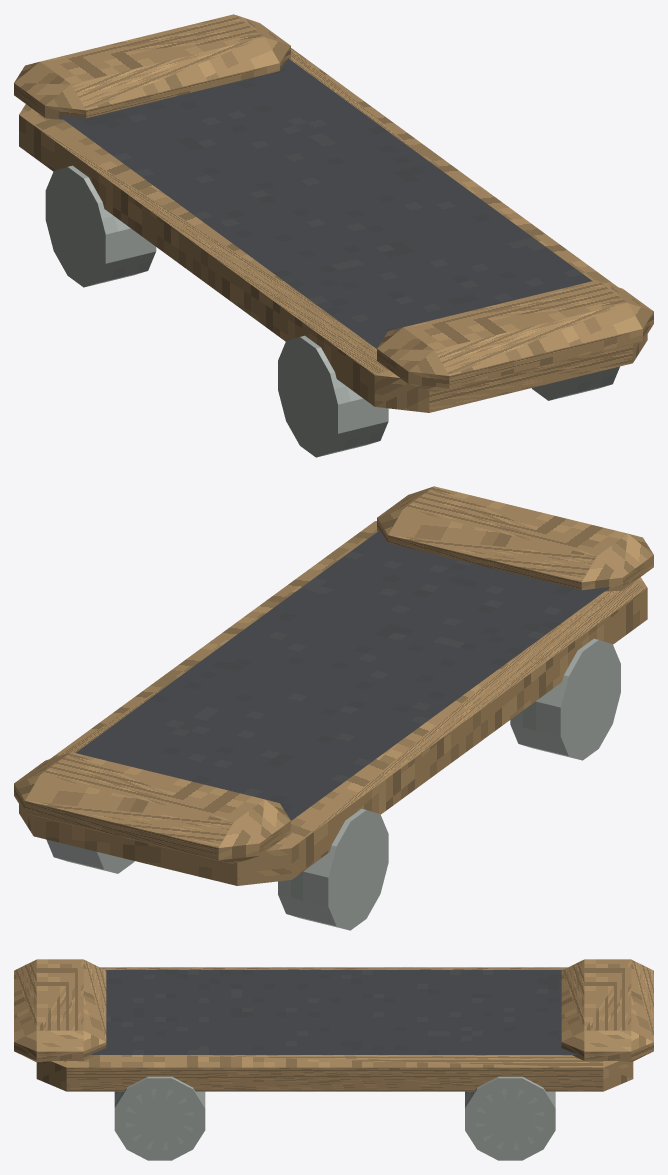
Rendered from folded_skateboard_generic.glb.
3 renders of one model, top to bottom at view 1: azimuth 30°, elevation 25°; view 2: azimuth 150°, elevation 25°; view 3: azimuth 270°, elevation 25°, orthographic. The views are drawn at different scales.
Parts seen in each view (by area): view 1: block_grip tape, block_upturned deck end (×2), block_wood laminate deck, block_skate wheel (×3); view 2: block_grip tape, block_upturned deck end (×2), block_wood laminate deck, block_skate wheel (×3); view 3: block_grip tape, block_wood laminate deck, block_upturned deck end (×2), block_skate wheel (×2).
Boxes of the visible parts, bbox=[...] form: block_grip tape: bbox=[57, 58, 592, 348]; block_upturned deck end (×2): bbox=[14, 14, 653, 392]; block_wood laminate deck: bbox=[19, 48, 647, 412]; block_skate wheel (×3): bbox=[45, 165, 619, 457]; block_grip tape: bbox=[76, 530, 610, 820]; block_upturned deck end (×2): bbox=[14, 486, 653, 863]; block_wood laminate deck: bbox=[19, 521, 647, 885]; block_skate wheel (×3): bbox=[46, 638, 620, 930]; block_grip tape: bbox=[90, 970, 577, 1054]; block_wood laminate deck: bbox=[36, 967, 633, 1091]; block_upturned deck end (×2): bbox=[14, 959, 653, 1062]; block_skate wheel (×2): bbox=[114, 1076, 555, 1160].
Size of the model in its own units: 0.1136 by 0.0578 by 0.2952.
1 material, 1 textured.
